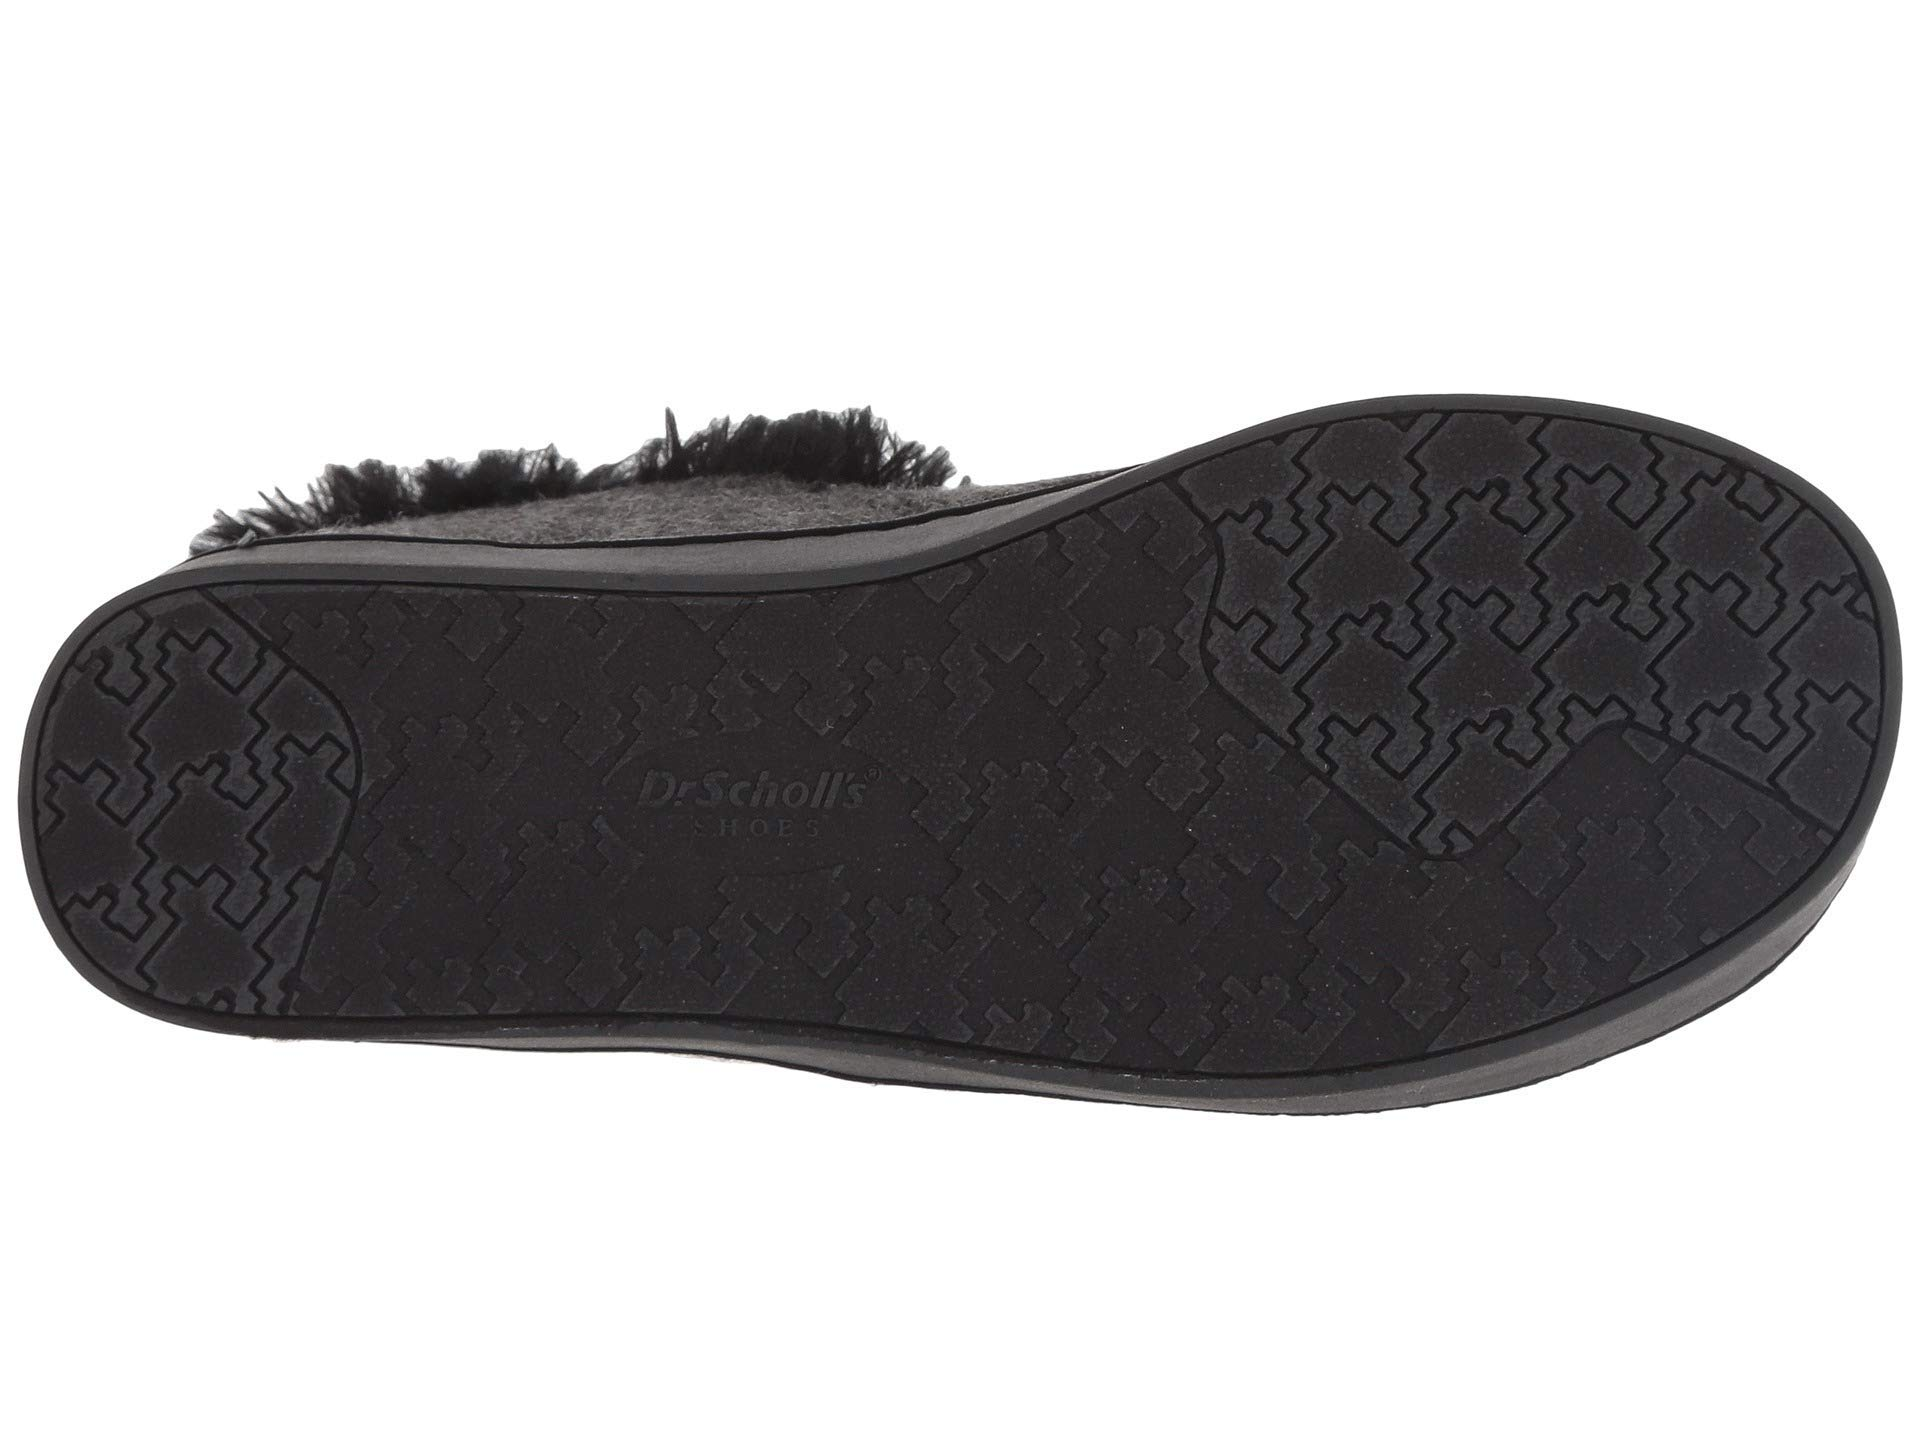circle: (609, 746, 893, 867)
exclude: (144, 334, 1160, 579)
text: (609, 746, 893, 867)
